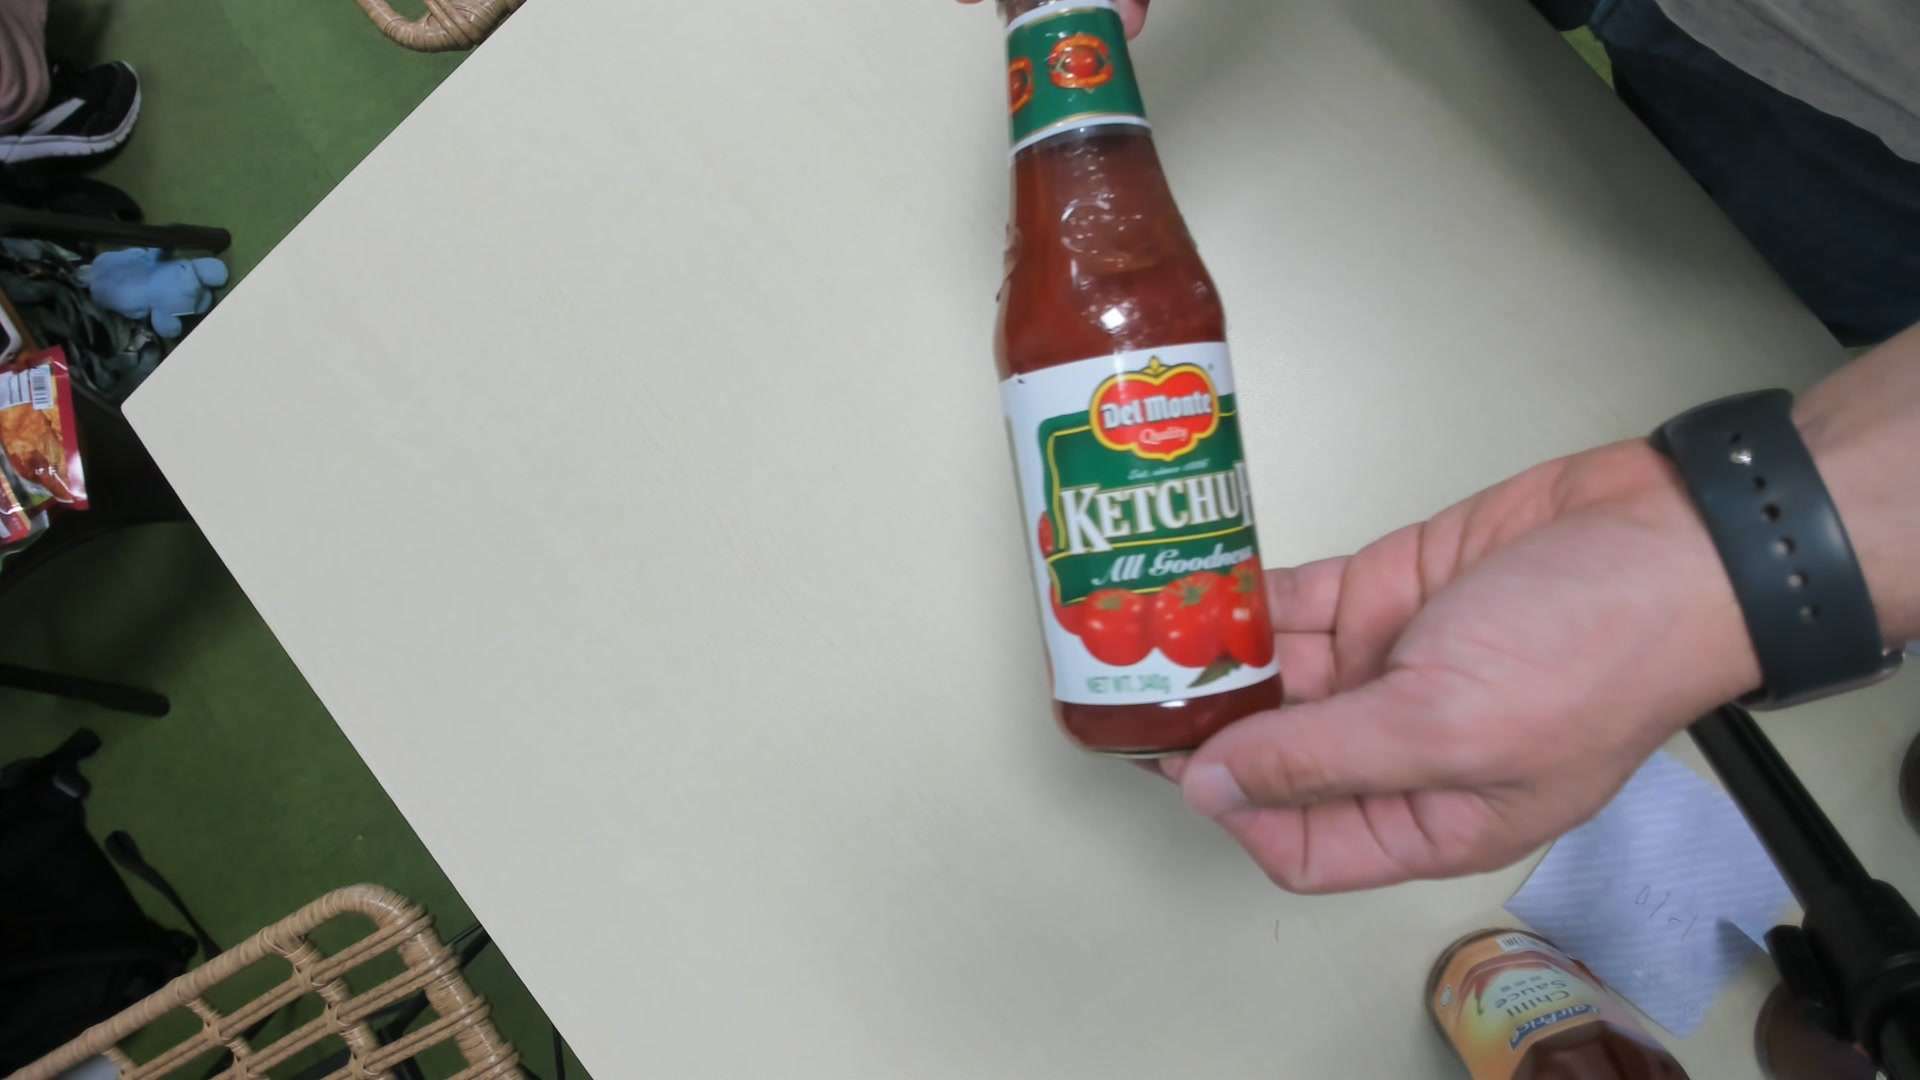KetchupChillSauce_300-399g_Halal_NonHealthy: (982, 5, 1288, 757)
